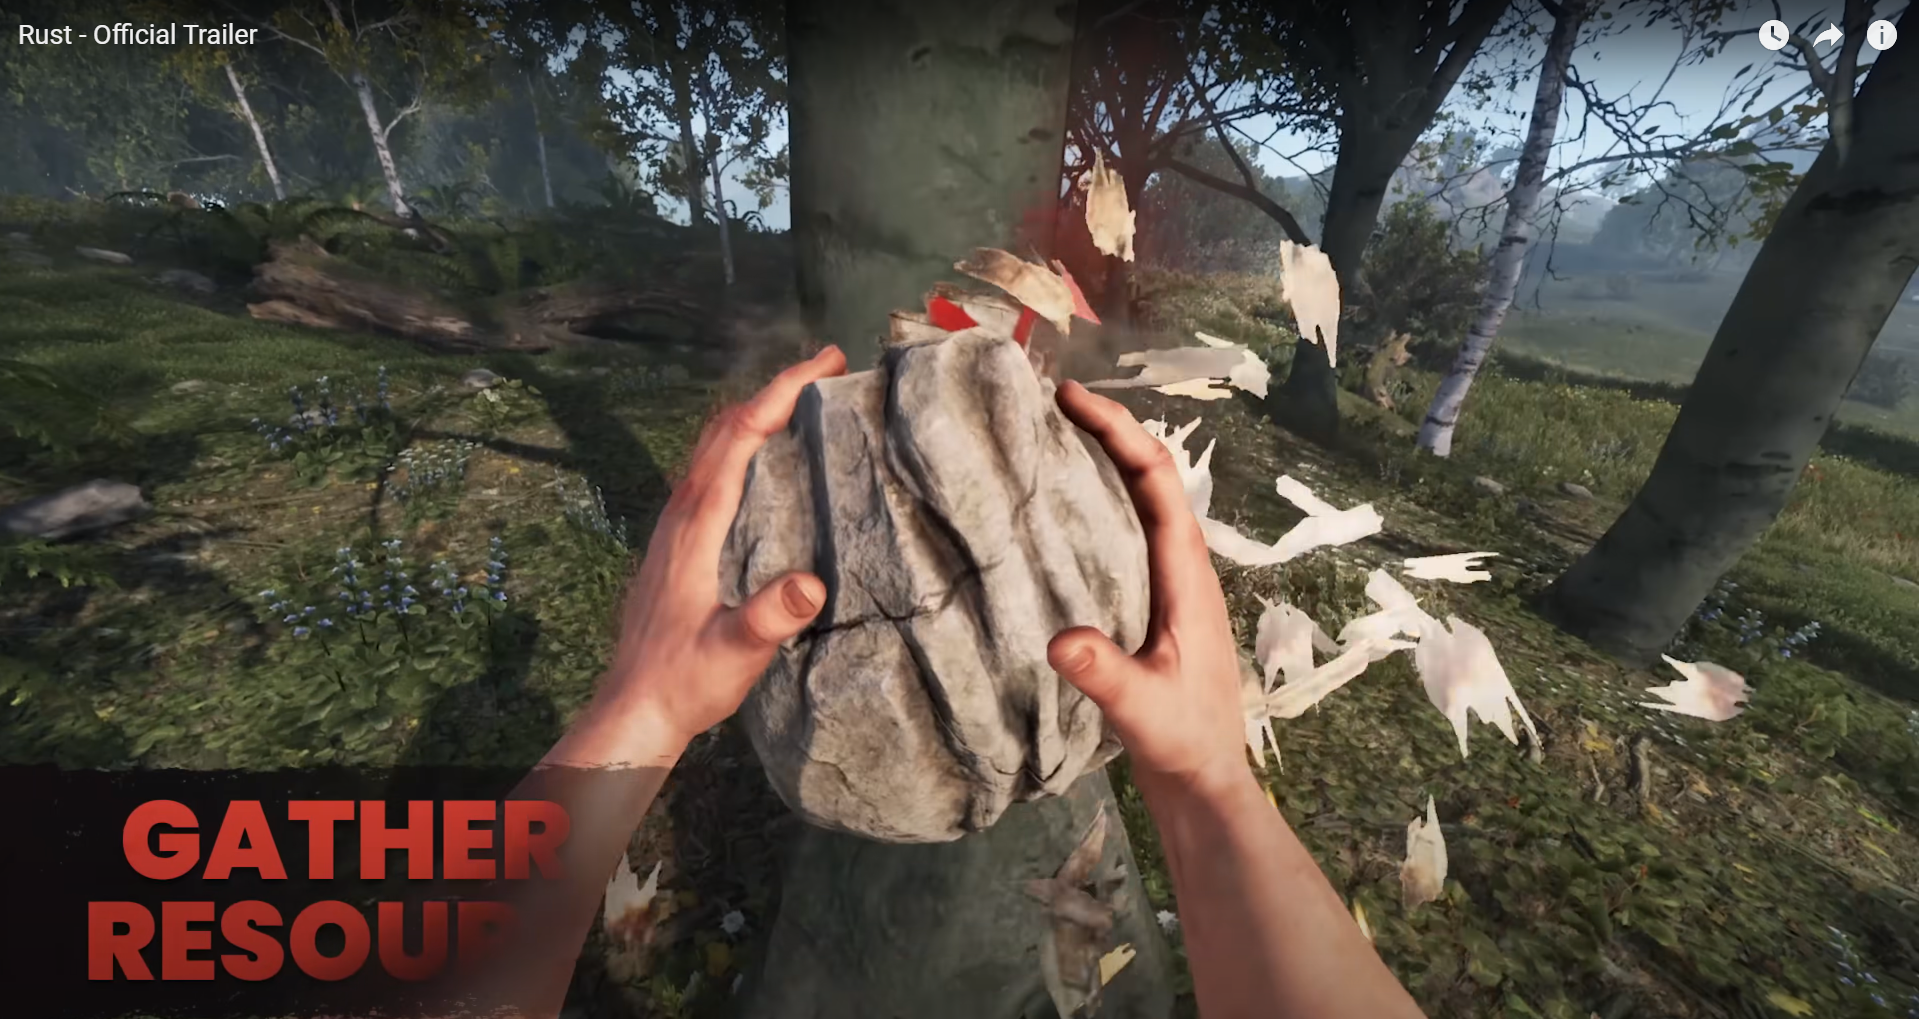cross: (918, 275, 1038, 365)
tree: (774, 6, 1108, 997), (1597, 3, 1900, 699), (1401, 5, 1631, 442), (250, 227, 764, 382), (1276, 3, 1435, 438), (640, 44, 751, 313), (350, 8, 438, 251), (228, 19, 303, 247), (475, 34, 564, 220)
